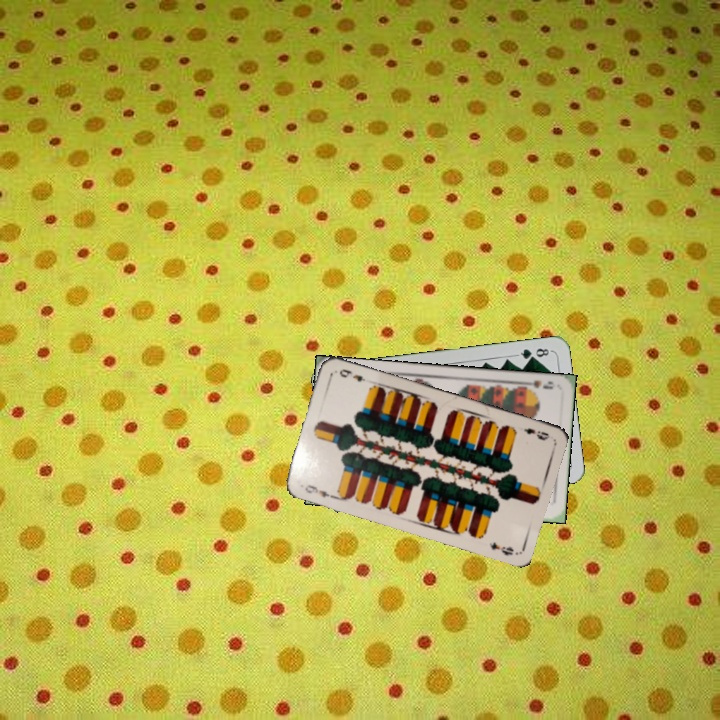E9: (301, 481, 337, 501), (519, 424, 552, 443)
G8: (513, 344, 554, 362)
S9: (518, 376, 556, 394)
